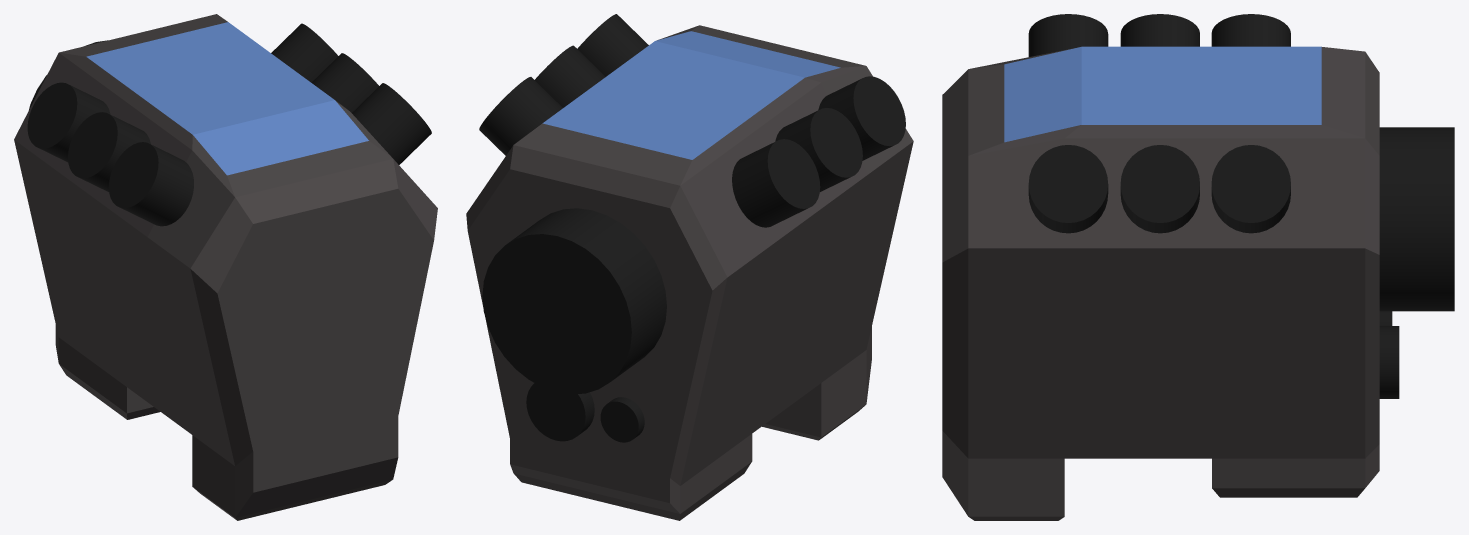
File: d_EngineBig.fbx
The picture shows the model from 3 angles, left to right: view 1: azimuth 30°, elevation 25°; view 2: azimuth 150°, elevation 25°; view 3: azimuth 270°, elevation 25°; orthographic projection. The views are drawn at different scales.
Visible parts, largest first — view 1: Big enginge; view 2: Big enginge; view 3: Big enginge.
Boxes of the visible parts, box(x1,y1,x2,y2) form: Big enginge: box(14, 14, 437, 520); Big enginge: box(466, 14, 913, 520); Big enginge: box(942, 14, 1454, 520).
Size of the model in its own units: 38.45 by 42.48 by 49.15.
